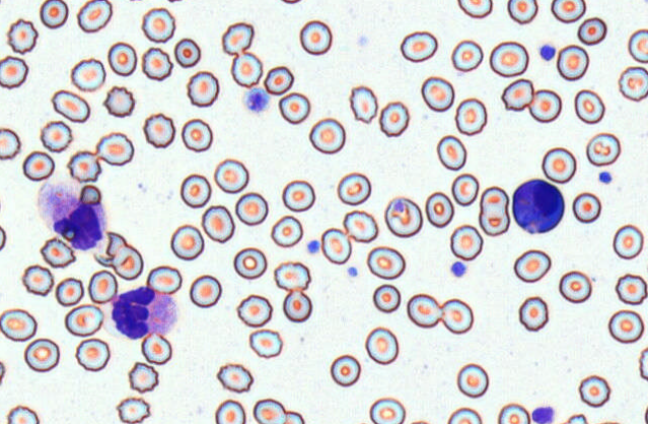GRAN: (105, 286, 180, 339)
LYM: (511, 176, 566, 236)
MONO: (38, 181, 108, 253)
PLT: (241, 88, 270, 112), (531, 406, 558, 424), (538, 43, 555, 63), (451, 261, 466, 278), (599, 171, 616, 186), (307, 241, 321, 256), (346, 265, 361, 279)
RBC: (478, 186, 510, 236), (384, 196, 422, 237), (489, 40, 528, 77), (308, 117, 345, 154), (95, 131, 134, 166), (201, 204, 235, 243), (366, 245, 405, 279), (23, 337, 60, 372), (364, 326, 398, 364), (64, 303, 103, 336), (51, 89, 90, 122), (213, 158, 249, 193), (541, 147, 576, 183), (513, 249, 551, 282), (454, 97, 487, 135), (170, 224, 204, 260), (236, 293, 272, 327), (608, 309, 644, 343), (449, 224, 483, 260), (0, 308, 37, 341), (186, 70, 219, 107), (75, 337, 110, 371), (406, 293, 441, 327), (70, 57, 105, 91), (141, 7, 175, 42), (420, 76, 454, 111), (142, 112, 175, 148), (342, 209, 378, 242), (299, 19, 332, 55), (556, 44, 589, 80), (400, 30, 437, 62), (234, 191, 268, 225), (586, 132, 620, 166), (440, 298, 473, 333), (336, 172, 371, 205), (111, 244, 143, 280), (40, 236, 76, 268), (230, 51, 262, 87), (6, 18, 38, 54), (76, 0, 112, 32), (273, 260, 310, 291), (216, 362, 253, 393), (320, 227, 351, 264), (348, 85, 378, 123), (221, 21, 254, 55), (233, 246, 267, 279), (528, 88, 561, 122), (558, 270, 592, 303), (281, 179, 315, 212), (456, 363, 488, 398), (501, 78, 534, 111), (270, 214, 303, 247), (67, 150, 101, 182), (141, 46, 173, 80), (180, 173, 211, 208), (612, 224, 643, 259), (574, 89, 605, 124), (146, 265, 182, 295), (436, 134, 466, 170), (379, 100, 409, 136), (21, 264, 54, 296), (140, 332, 172, 365), (102, 85, 135, 117), (39, 120, 72, 152), (189, 274, 221, 307), (578, 374, 610, 407), (278, 91, 310, 124), (181, 118, 212, 152), (518, 296, 548, 331), (107, 41, 137, 76), (618, 65, 647, 101), (425, 191, 454, 227), (127, 361, 159, 393), (615, 273, 647, 305), (451, 39, 483, 71), (22, 150, 55, 181), (87, 269, 117, 303), (248, 328, 282, 358), (329, 354, 360, 386), (282, 290, 312, 322), (0, 55, 28, 89), (115, 396, 150, 423), (369, 397, 405, 423), (263, 65, 294, 95), (451, 173, 479, 206), (572, 192, 601, 223), (55, 276, 84, 306), (577, 16, 607, 45), (252, 398, 286, 423), (372, 283, 400, 313), (550, 0, 586, 23), (39, 0, 68, 28), (174, 37, 201, 67), (507, 0, 538, 24), (214, 399, 245, 423), (0, 127, 21, 160), (628, 28, 647, 63), (497, 403, 530, 423), (457, 0, 492, 18), (447, 406, 482, 423), (6, 405, 39, 423), (638, 346, 648, 380), (283, 410, 305, 423), (565, 413, 588, 423), (0, 225, 6, 251), (0, 360, 5, 385), (593, 420, 623, 424), (409, 419, 430, 424), (279, 0, 303, 4), (644, 403, 648, 423), (165, 0, 187, 3)
Schistocyte: (93, 231, 127, 267), (77, 185, 103, 206)
